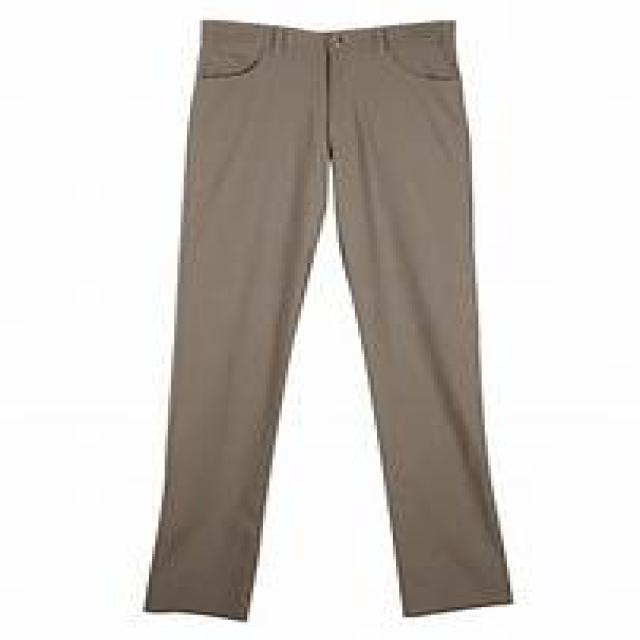long-pants: (144, 15, 515, 621)
